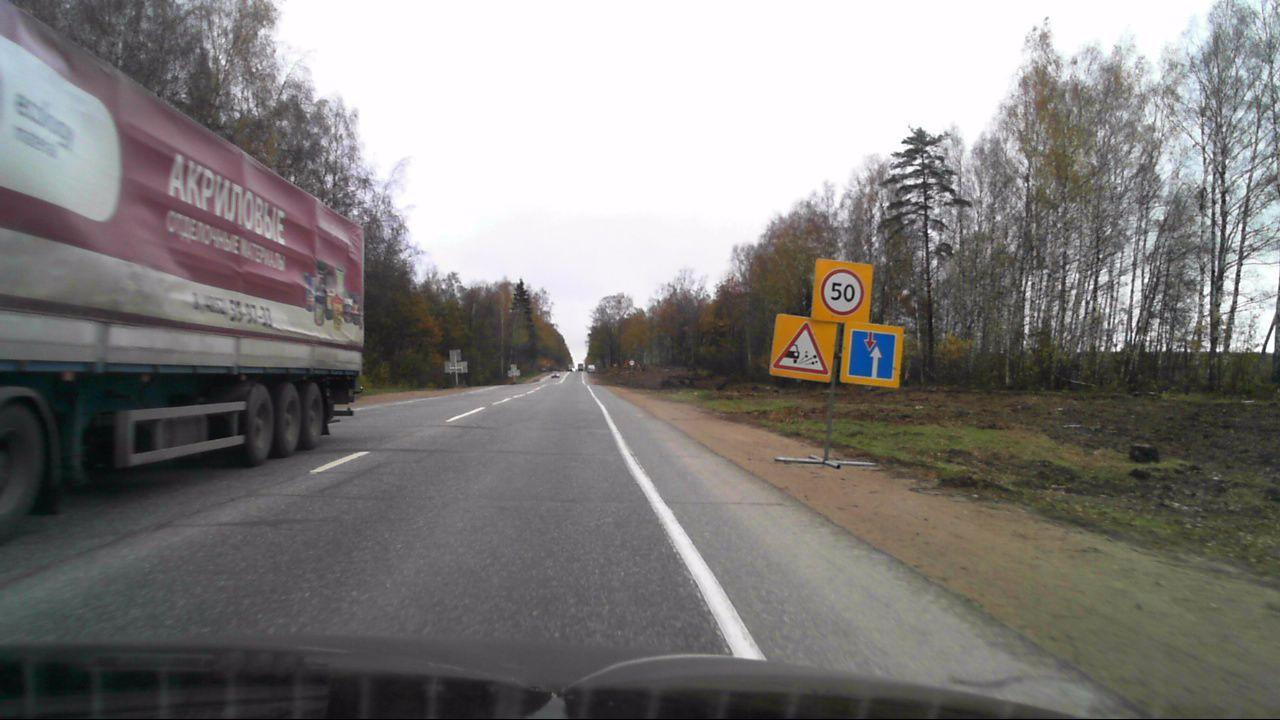1_18: (775, 318, 829, 378)
2_7: (846, 330, 898, 380)
3_24: (820, 267, 866, 315)
